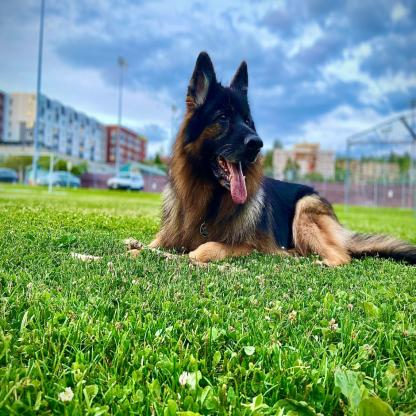dog: (152, 48, 416, 273)
